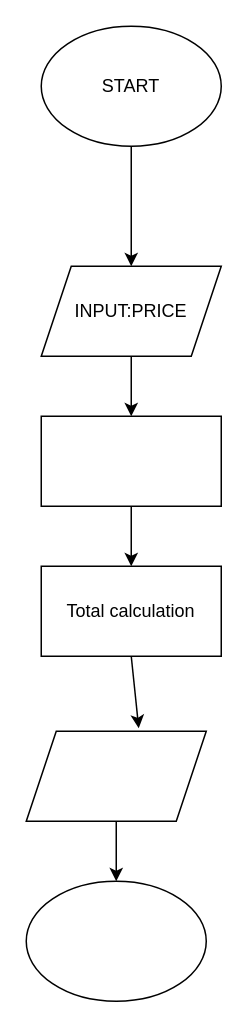
The diagram is 248 pixels wide and 1028 high, and some of its shapes have lost their labels. Each missing label, with the centre of its shape:
Display Receipt: point (115, 775)
Subtotal calculation: point (130, 460)
